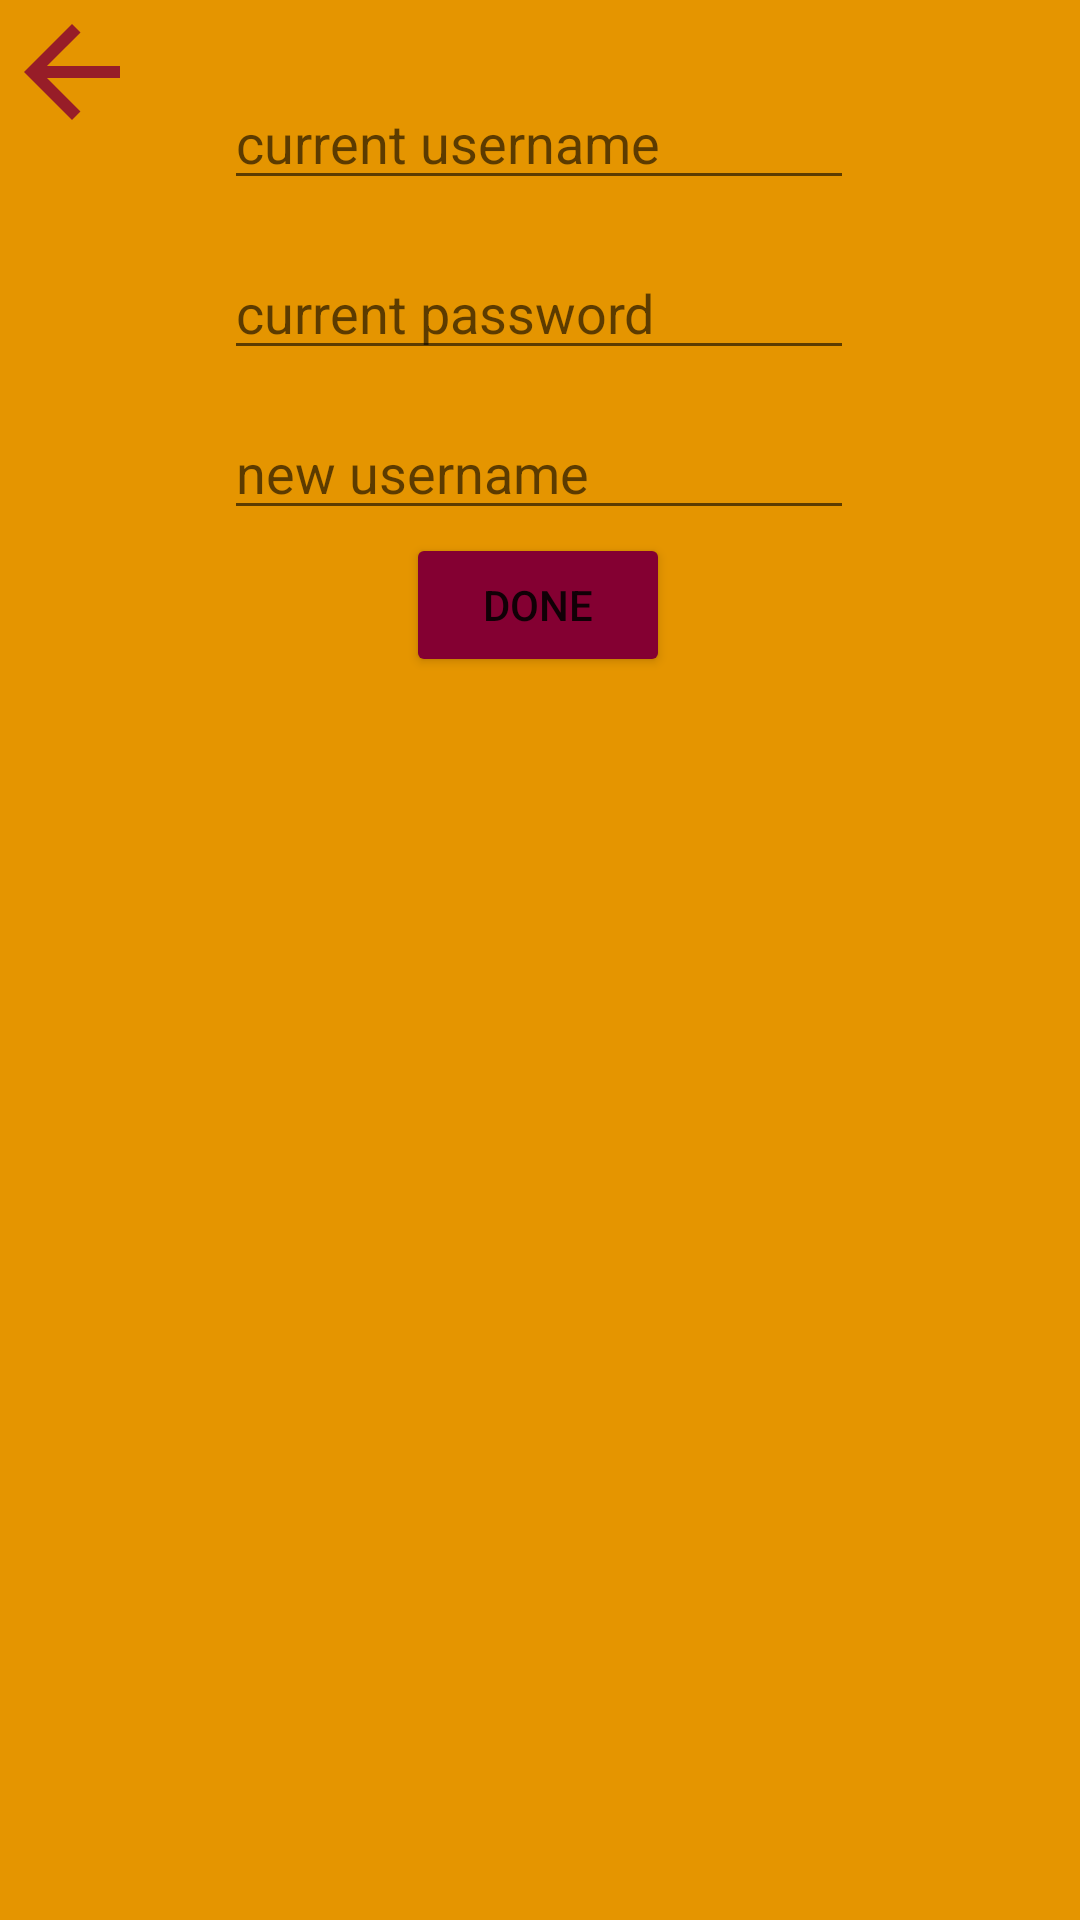

Icons on this 1080px x 1920px Android screen, each with the point to tap as point (x, y):
back arrow: point (72, 72)
